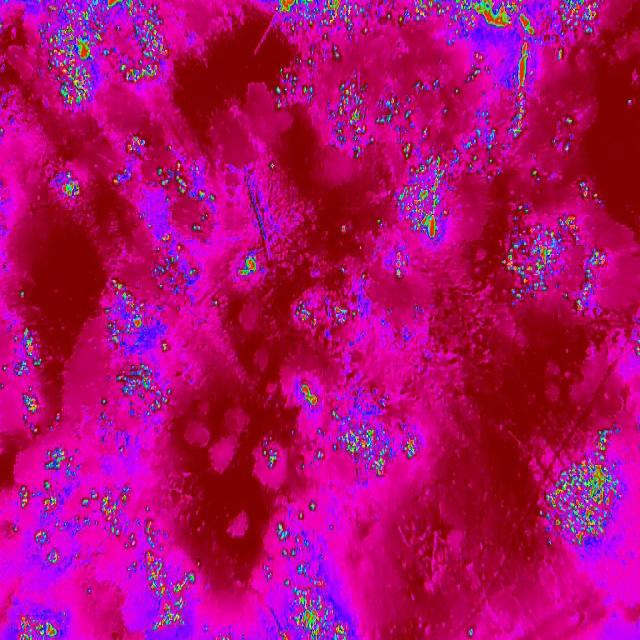fire: (12, 444, 193, 640), (265, 40, 536, 170), (262, 371, 426, 482), (491, 199, 615, 319), (39, 0, 172, 111), (270, 1, 600, 42), (254, 510, 354, 640), (94, 274, 179, 418), (534, 428, 626, 557), (112, 136, 218, 220), (380, 154, 460, 242), (6, 319, 49, 433), (286, 291, 350, 337), (59, 166, 86, 209), (228, 252, 262, 284)
